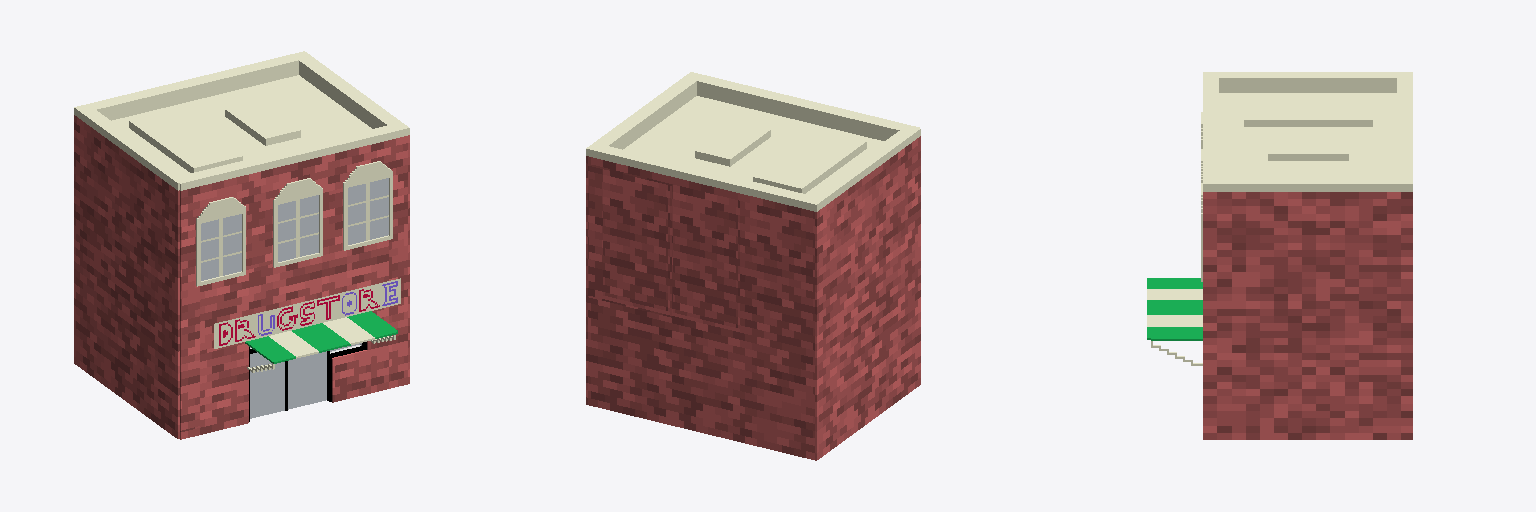
3 views of the same model, side by side, from view 1: azimuth 30°, elevation 25°; view 2: azimuth 150°, elevation 25°; view 3: azimuth 270°, elevation 25° (orthographic).
Parts seen in each view (by area): view 1: object 1; view 2: object 1; view 3: object 1.
Boxes of the visible parts, x1,y1,x2,y2 form: object 1: [74, 51, 409, 439]; object 1: [586, 72, 920, 460]; object 1: [1147, 72, 1412, 439].
Size of the model in its own units: 13.2 by 14 by 13.2.
1 materials, 1 textured.